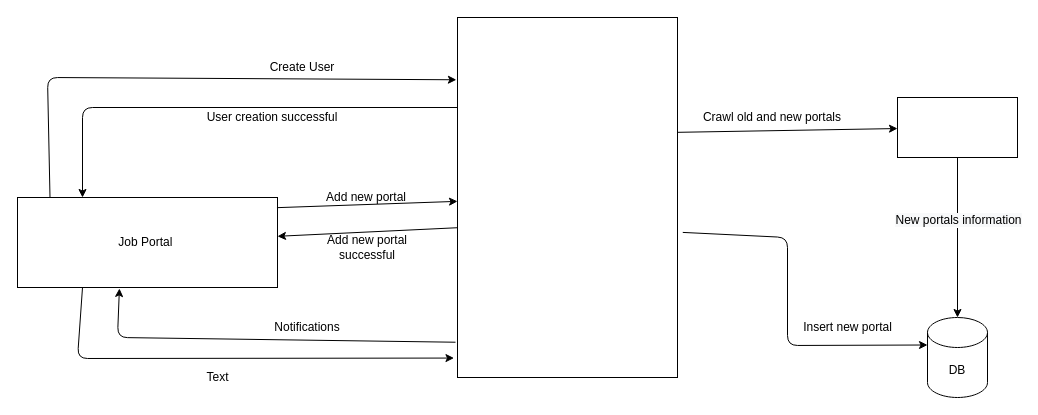
Image size: 1038x415. Some labels were removed from this diagram. The box of each missing label's shape, as (x1, y1, x2, y2) in pixels:
Backend: (456, 16, 678, 378)
UIPath Robot: (896, 96, 1018, 158)
